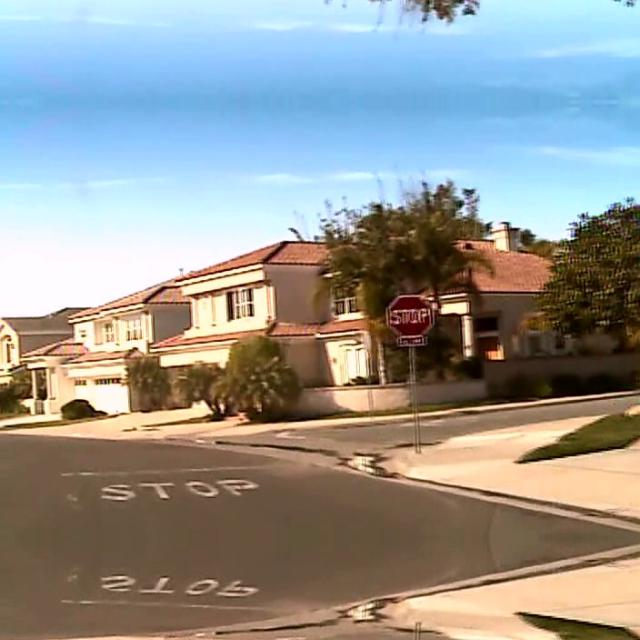stop: (386, 292, 434, 336)
